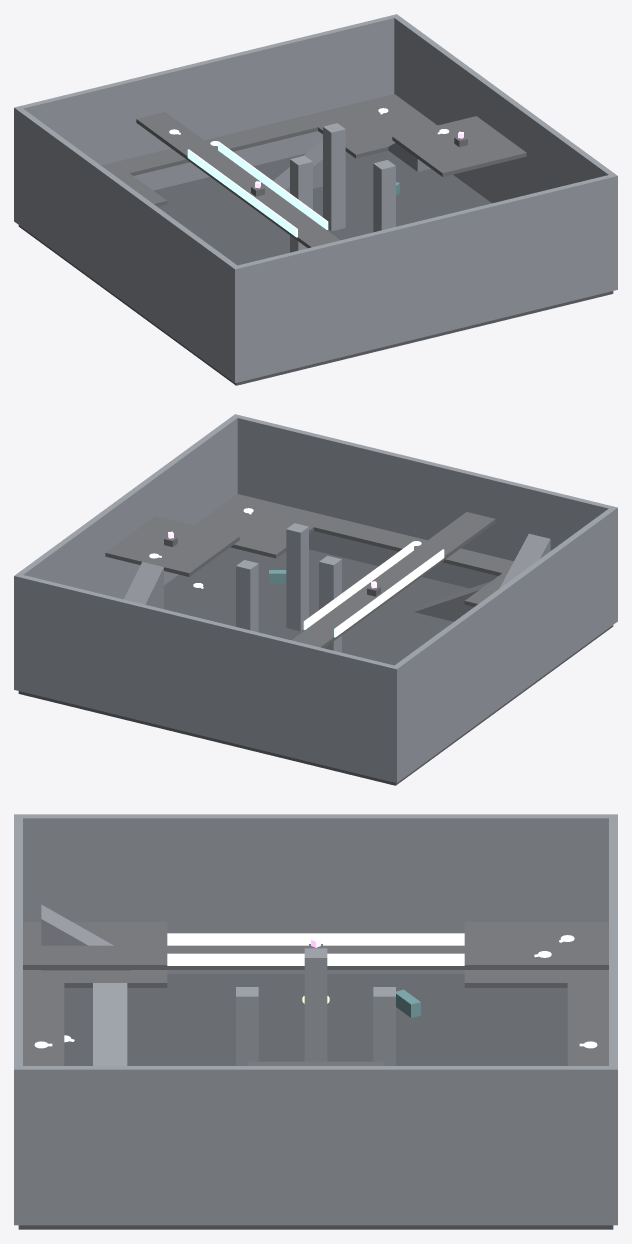
The model's file is foundry_spire.glb.
3 renders of one model, top to bottom at view 1: azimuth 30°, elevation 25°; view 2: azimuth 150°, elevation 25°; view 3: azimuth 270°, elevation 25°, orthographic. The views are drawn at different scales.
Visible parts, largest first — view 1: perimeter.S0, perimeter.N0, perimeter.W0, floor, perimeter.E0, l2_bridge, l2_east, l1_corner_1_1, l1_walk_1, pillar_6_6, pillar_6_-6, pillar_-2_0 (+4 smaller); view 2: perimeter.N0, perimeter.S0, perimeter.W0, floor, perimeter.E0, l2_bridge, l2_east, l1_corner_1_-1, l1_walk_-1, pillar_6_-6, pillar_6_6, ramp_12_e (+6 smaller); view 3: perimeter.E0, perimeter.W0, floor, l2_bridge, l1_corner_-1_1, l1_corner_-1_-1, l2_rail_-10.2, perimeter.N0, perimeter.S0, l2_rail_-6, l1_walk_-1, l1_walk_1 (+6 smaller).
Boxes of the visible parts, x1,y1,x2,y2 form: perimeter.S0: (231, 174, 617, 382); perimeter.N0: (14, 14, 399, 222); perimeter.W0: (14, 106, 240, 382); floor: (18, 150, 613, 385); perimeter.E0: (392, 15, 617, 290); l2_bridge: (136, 112, 340, 248); l2_east: (392, 116, 526, 176); l1_corner_1_1: (303, 94, 437, 158); l1_walk_1: (115, 116, 317, 175); pillar_6_6: (323, 123, 345, 231); pillar_6_-6: (373, 160, 395, 232); pillar_-2_0: (290, 155, 312, 252); perimeter.N0: (14, 574, 400, 782); perimeter.S0: (232, 414, 617, 623); perimeter.W0: (391, 506, 617, 782); floor: (18, 547, 613, 785); perimeter.E0: (14, 416, 239, 690); l2_bridge: (291, 512, 495, 648); l2_east: (105, 516, 239, 576); l1_corner_1_-1: (194, 494, 328, 558); l1_walk_-1: (314, 516, 513, 575); pillar_6_-6: (286, 523, 308, 631); pillar_6_6: (236, 560, 258, 632); ramp_12_e: (124, 562, 163, 608); perimeter.E0: (14, 1066, 617, 1225); perimeter.W0: (14, 814, 617, 973); floor: (18, 974, 613, 1229); l2_bridge: (23, 945, 608, 969); l1_corner_-1_1: (464, 922, 608, 987); l1_corner_-1_-1: (23, 922, 167, 987); l2_rail_-10.2: (167, 933, 464, 945); perimeter.N0: (609, 814, 617, 1225); perimeter.S0: (14, 814, 22, 1225); l2_rail_-6: (167, 953, 464, 965); l1_walk_-1: (23, 983, 64, 1065); l1_walk_1: (567, 983, 608, 1065).
Size of the model in its own units: 52.8 by 15.6 by 52.8.
